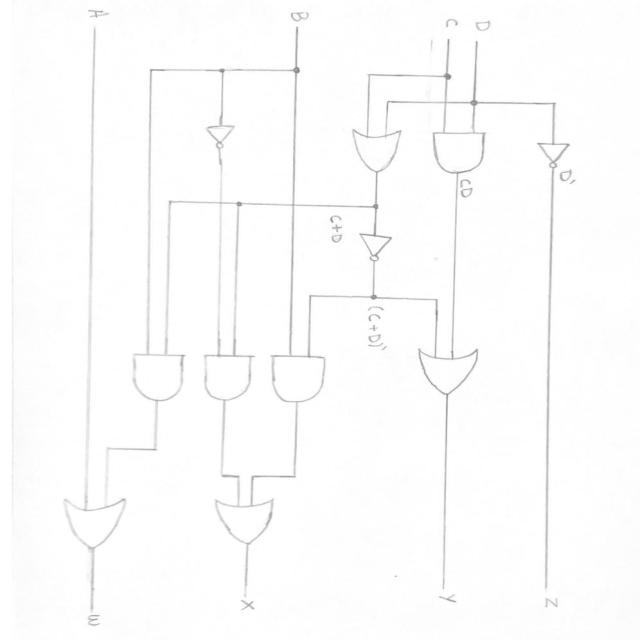AND: (128, 340, 190, 406), (265, 344, 331, 406), (198, 348, 258, 406), (429, 127, 494, 179)
NOT: (357, 226, 407, 269), (194, 123, 246, 156), (532, 138, 578, 166)
OR: (191, 493, 305, 548), (56, 490, 147, 555), (410, 343, 491, 395), (347, 120, 410, 182)
